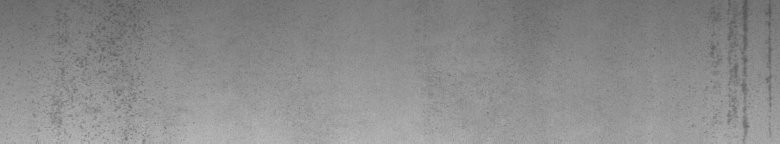ib: (43, 10, 142, 135)
